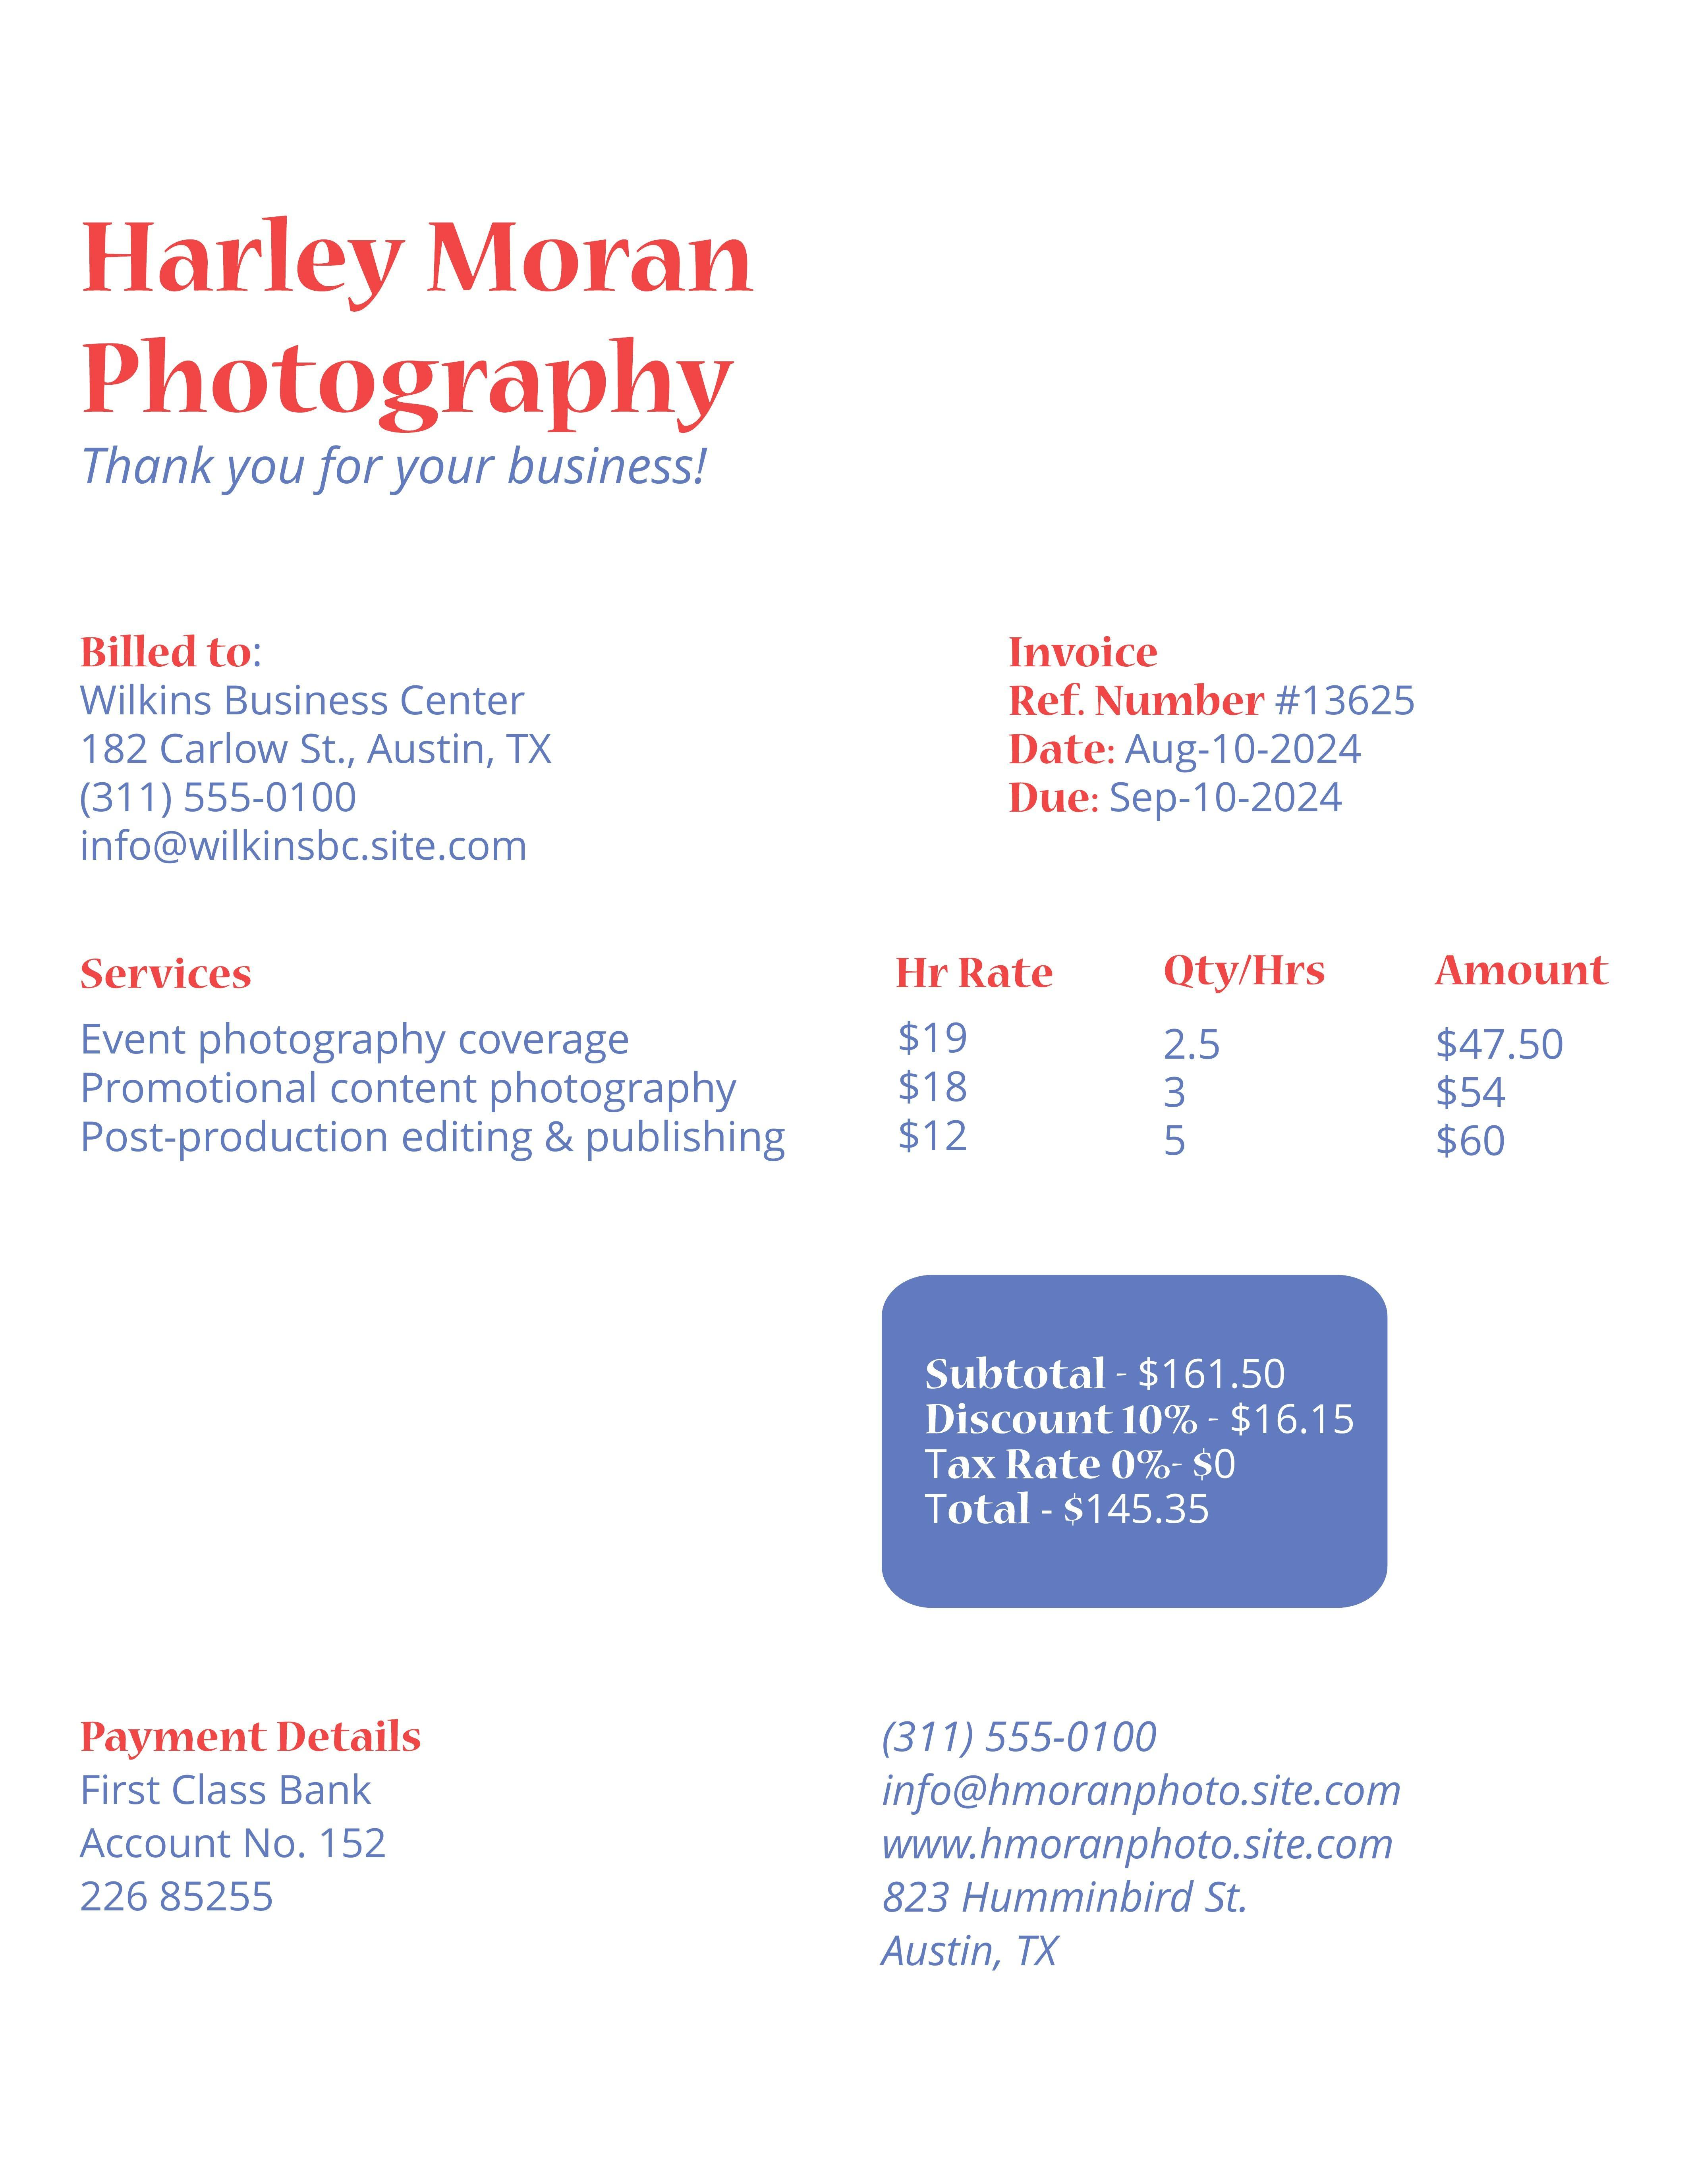ROI: (75, 949, 1624, 1187), (75, 210, 767, 441), (71, 631, 592, 882), (71, 1700, 457, 1966), (902, 1338, 1370, 1553), (993, 635, 1438, 826)
